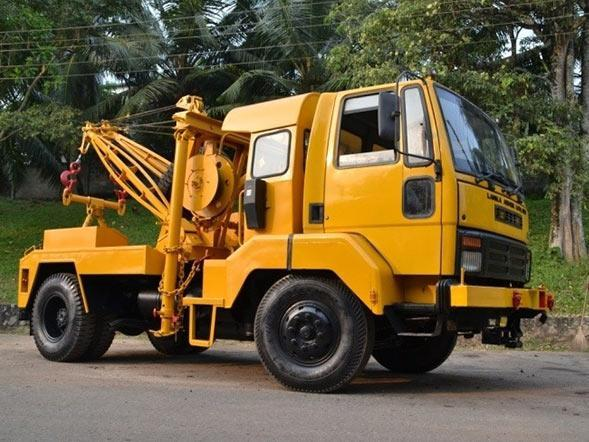truck: (17, 74, 553, 393)
